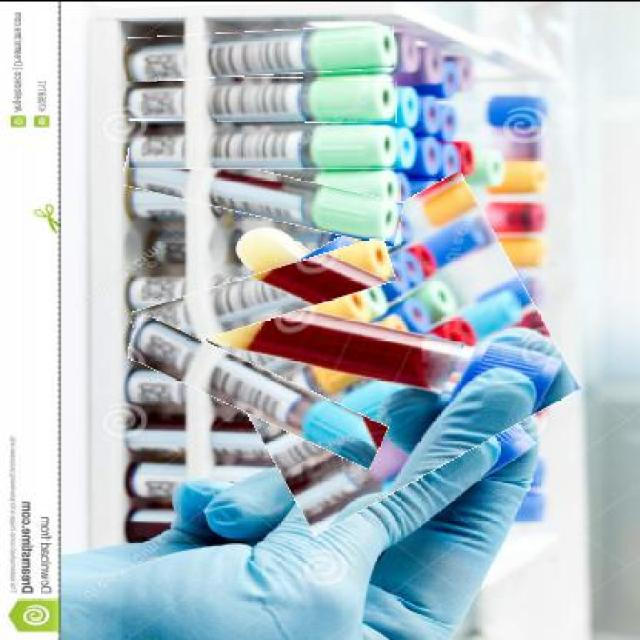Experimental-tube: (215, 197, 559, 505), (124, 339, 390, 441), (129, 254, 394, 337), (121, 155, 402, 231), (123, 26, 394, 76), (125, 74, 397, 120), (128, 123, 395, 168)
